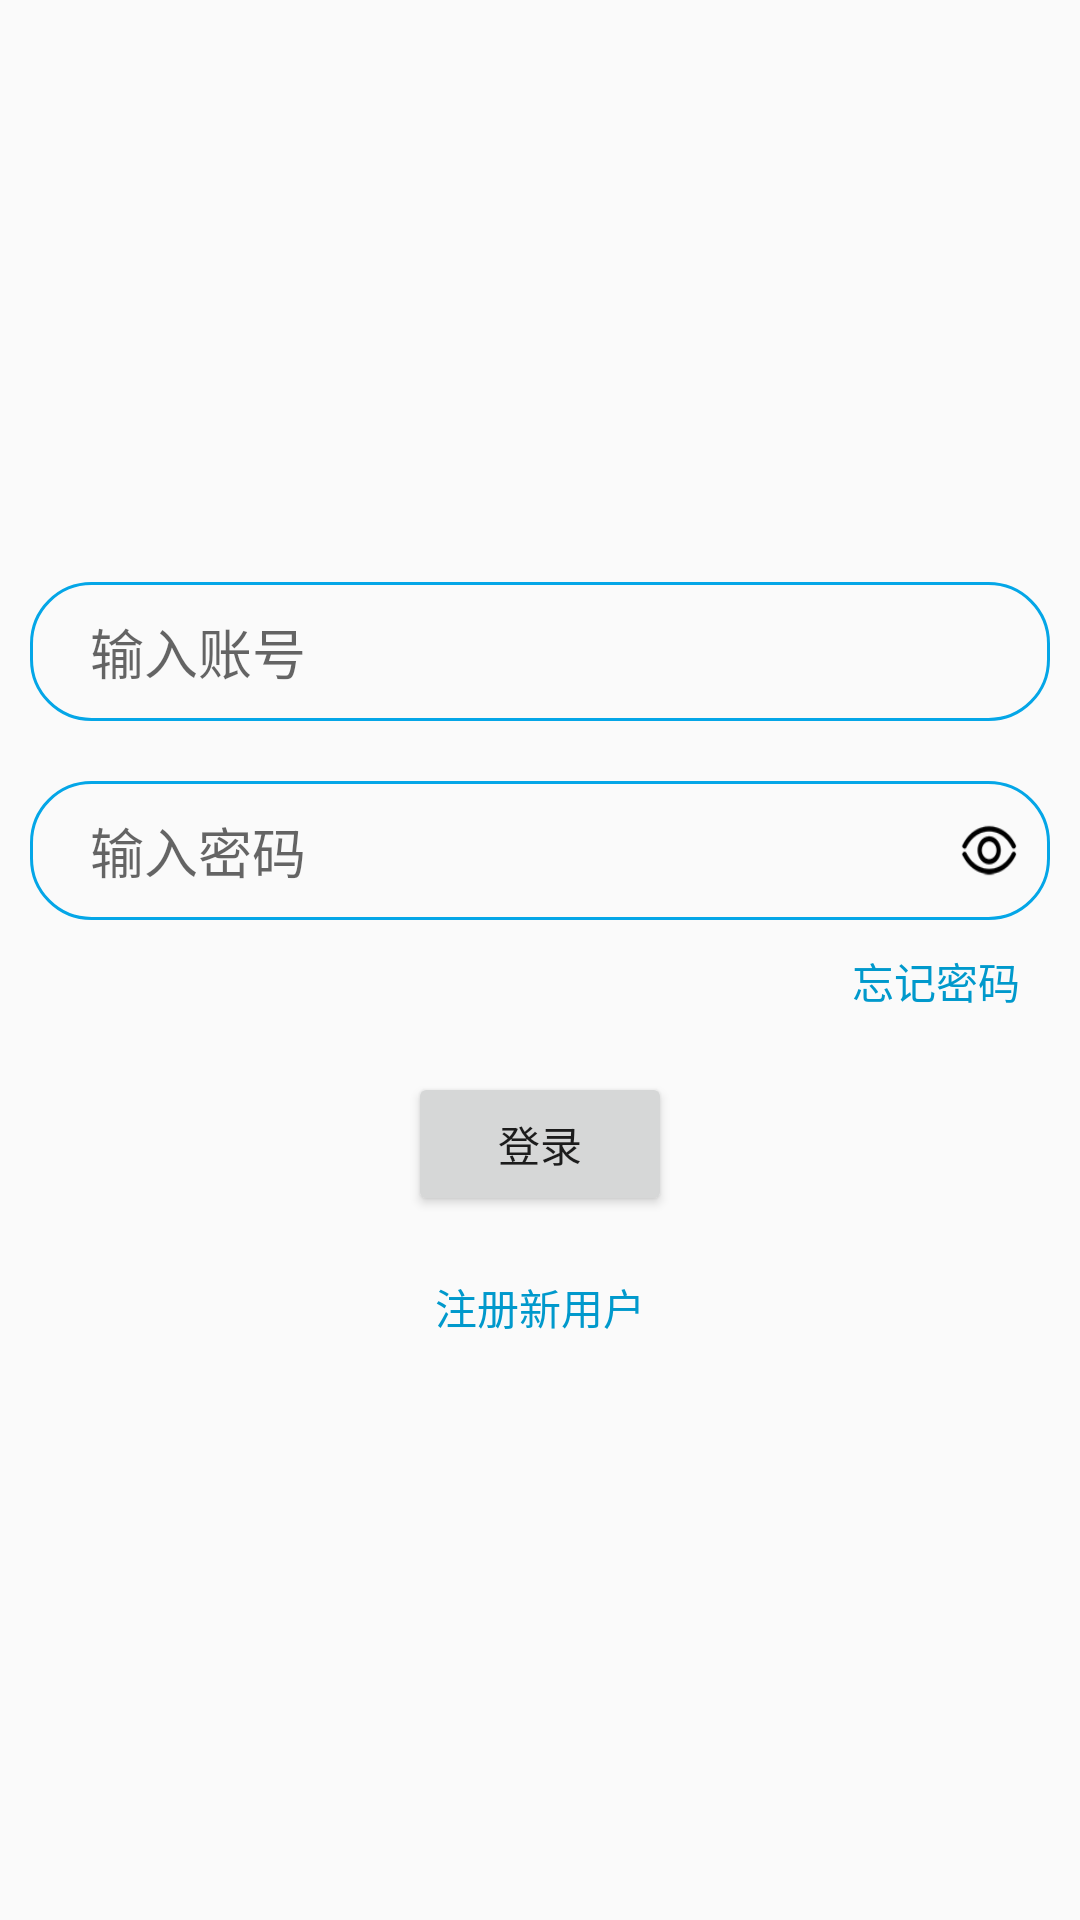

Named icons in this screenshot (1080*1920) and their bounding boxes, bbox=[x1, y1, x2, y2]:
psw show: bbox=[962, 825, 1016, 875]
